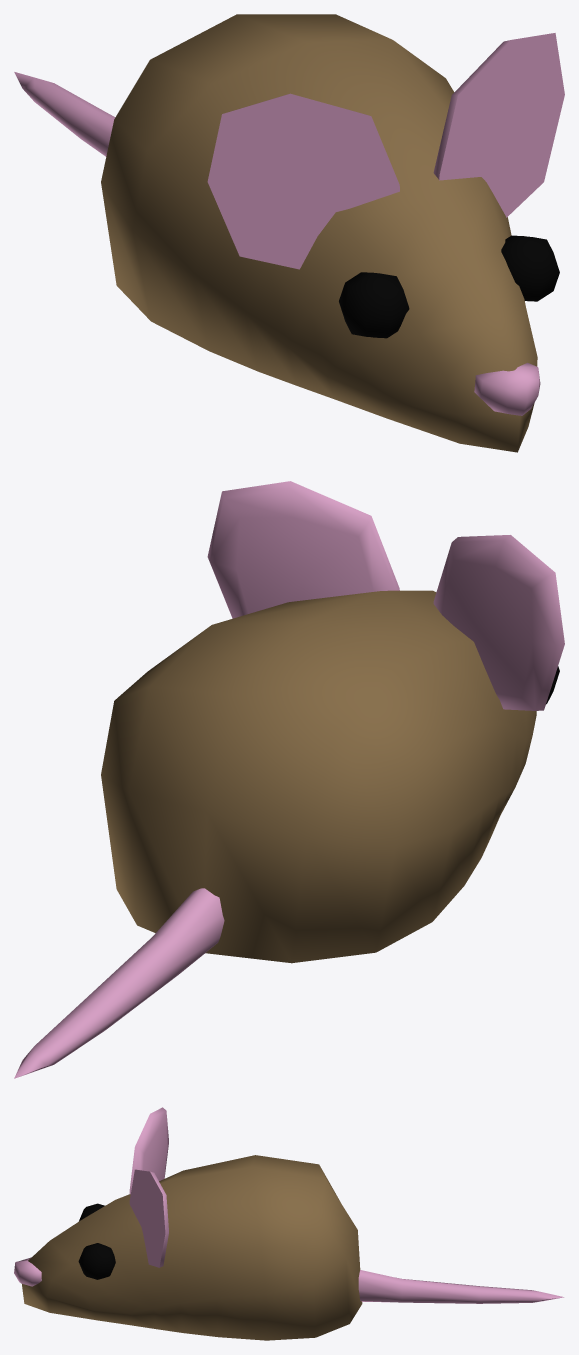
The model's file is mouse.fbx.
The picture shows the model from 3 angles, top to bottom: view 1: azimuth 30°, elevation 25°; view 2: azimuth 150°, elevation 25°; view 3: azimuth 270°, elevation 25°; orthographic projection. The views are drawn at different scales.
Parts seen in each view (by area): view 1: Body, Ears, Eyes, Tail; view 2: Body, Ears, Tail; view 3: Body, Tail, Ears, Eyes.
Boxes of the visible parts, <box> form: Body: <box>101,14,537,452</box>; Ears: <box>207,33,564,269</box>; Eyes: <box>339,235,559,338</box>; Tail: <box>14,72,540,415</box>; Body: <box>101,590,536,963</box>; Ears: <box>207,481,564,710</box>; Tail: <box>14,888,224,1078</box>; Body: <box>22,1155,362,1340</box>; Tail: <box>14,1257,564,1303</box>; Ears: <box>129,1107,168,1267</box>; Eyes: <box>78,1203,115,1279</box>.
Size of the model in its own units: 144 by 115 by 358.
Materials: 1 (1 with a texture image).
